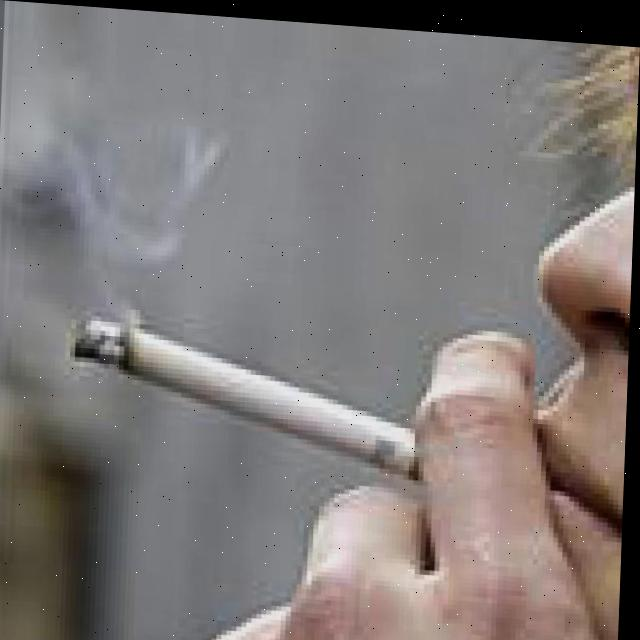cigarette: (75, 315, 429, 468)
